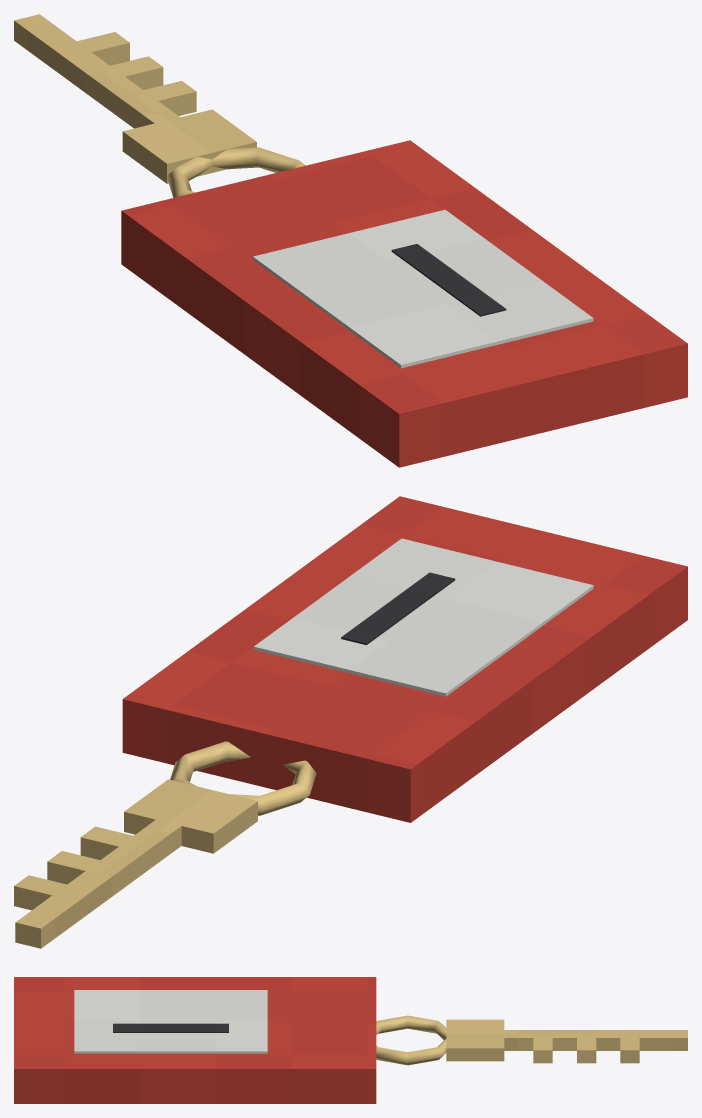
File: item_room_key.glb
3 renders of one model, top to bottom at view 1: azimuth 30°, elevation 25°; view 2: azimuth 150°, elevation 25°; view 3: azimuth 270°, elevation 25°, orthographic. The views are drawn at different scales.
Visible parts, largest first — view 1: key; view 2: key; view 3: key.
Boxes of the visible parts, x1=… form: key: x1=14, y1=14, x2=687, y2=467; key: x1=14, y1=496, x2=687, y2=948; key: x1=14, y1=977, x2=687, y2=1103.
Size of the model in its own units: 0.045 by 0.0095 by 0.1395.
4 materials, 4 textured.
